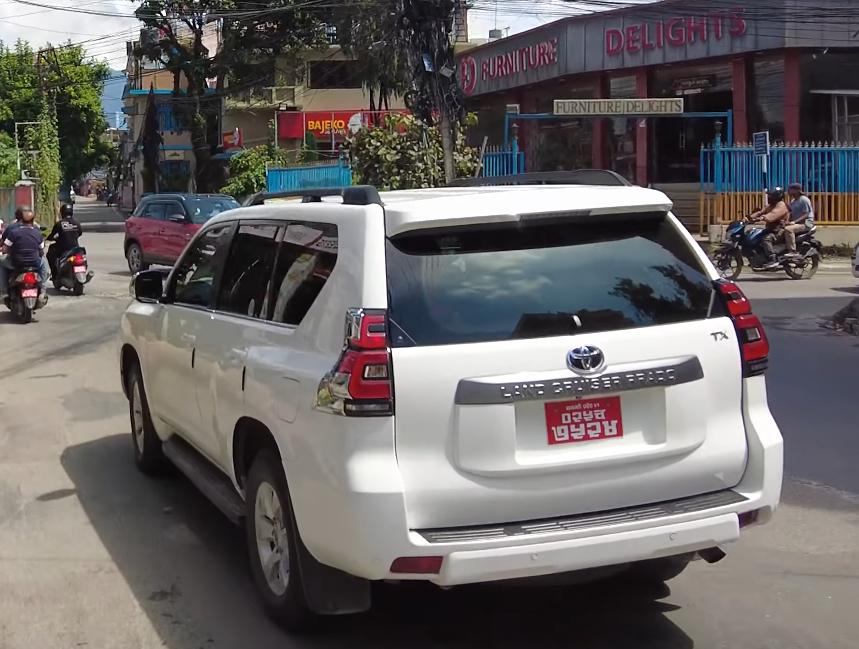SUV: (98, 173, 798, 638)
bike: (709, 211, 827, 286)
car: (117, 186, 244, 268)
scooter: (0, 250, 55, 330), (43, 239, 96, 298)
